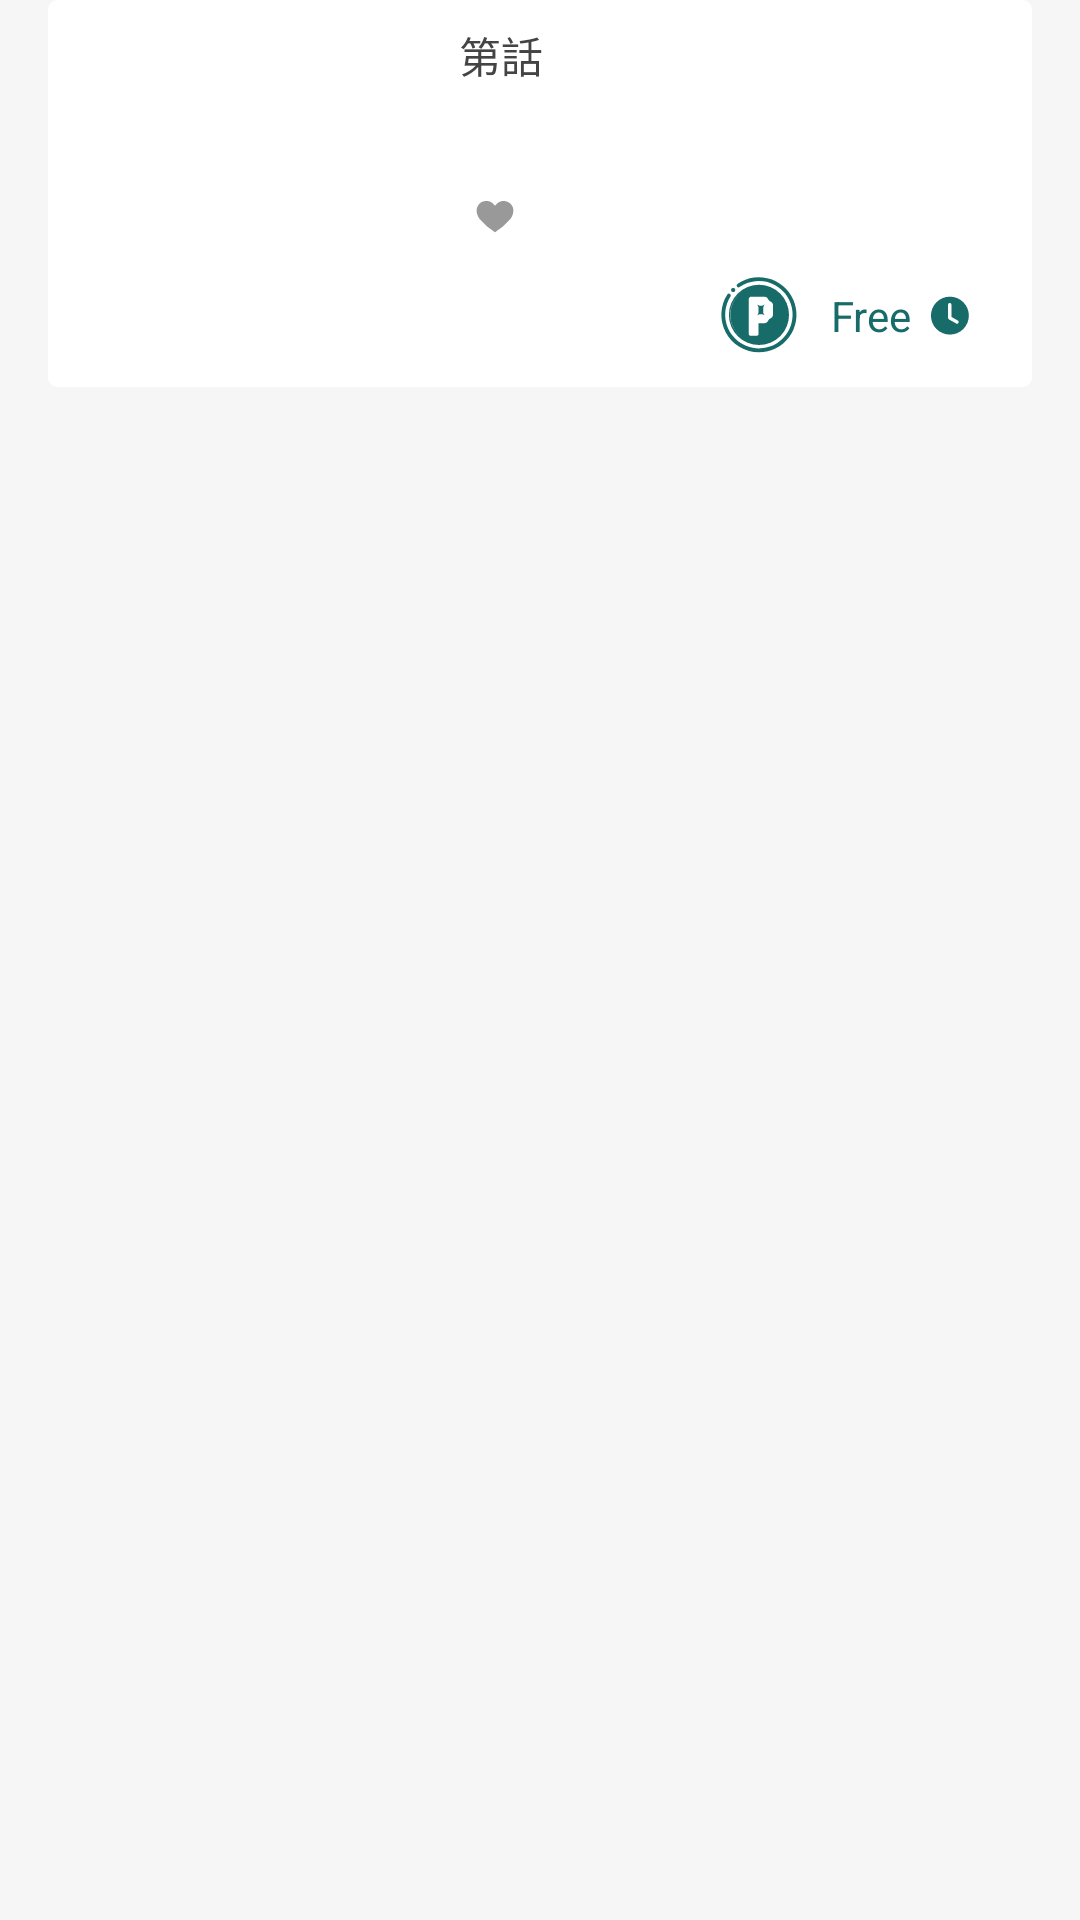

Icon bounding boxes for this 1080x1920 phone screenshot, format (x1, y1, x2, y2):
ccc point: (721, 277, 797, 353)
ccc serial heart: (476, 201, 514, 232)
